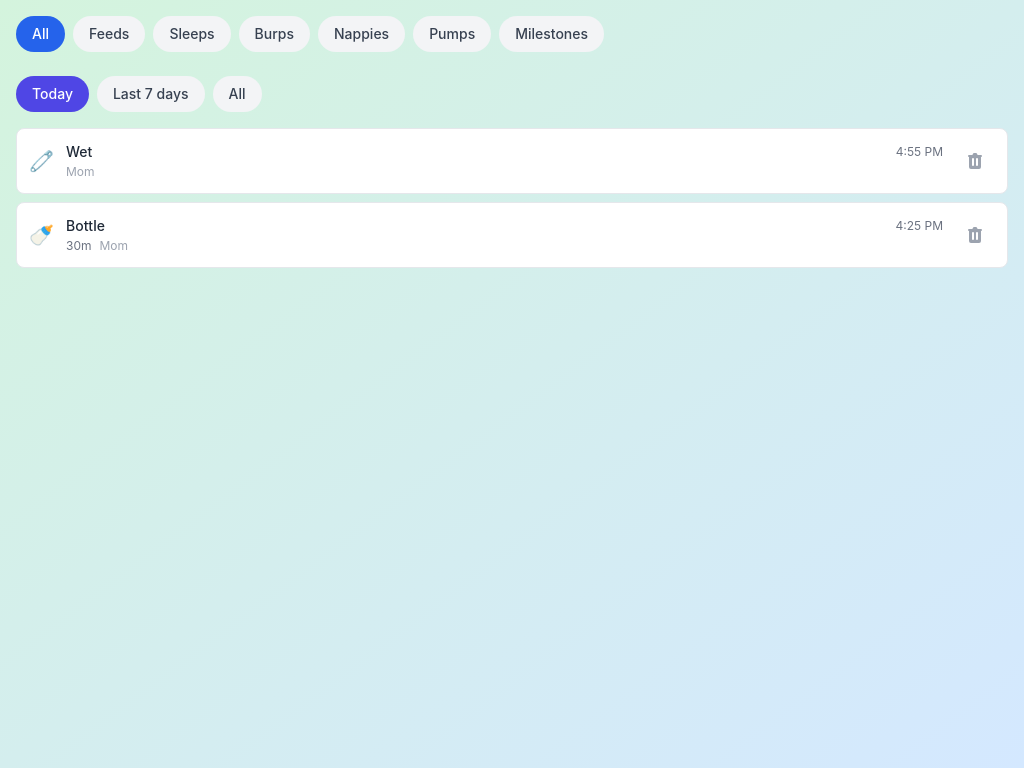
Scenario: History — type filter › shows all events again when All is clicked after filtering
Expected: the text "Bottle" is shown, [66,216,105,236]
Click the button "Feeds". click: (109, 34)
box: [73,16,145,52]
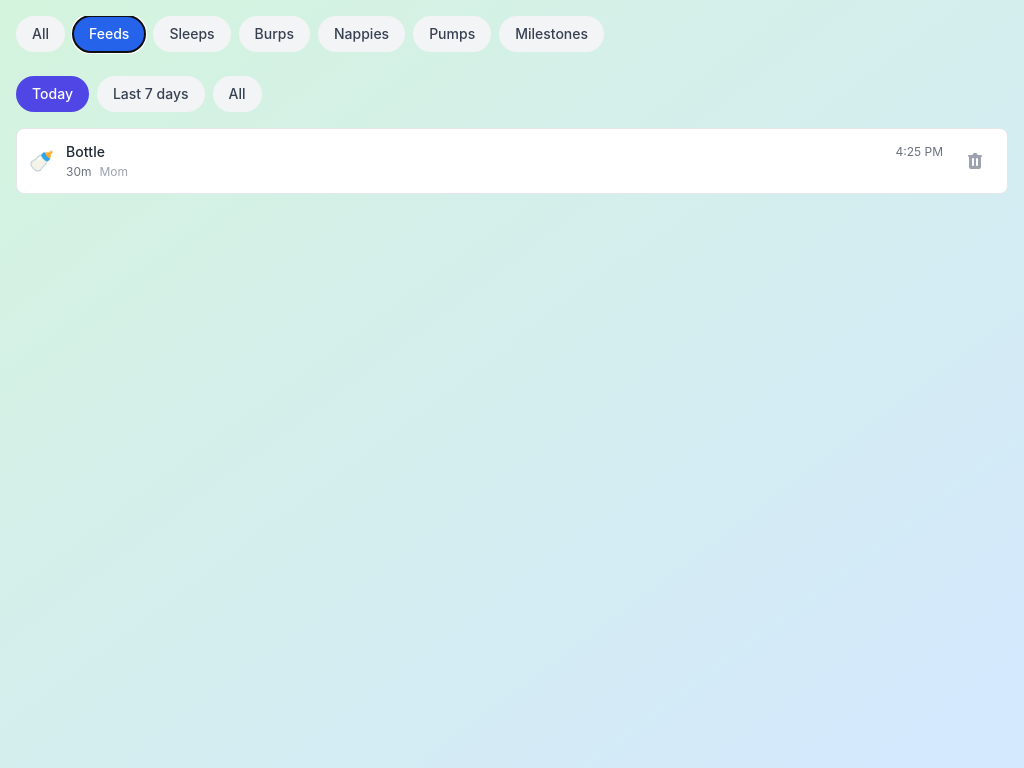
Result: the button "Wet" is gone
Click "All" in the type filters (first one)
Click the 1st button "All". click: (40, 34)
box: [16,16,65,52]
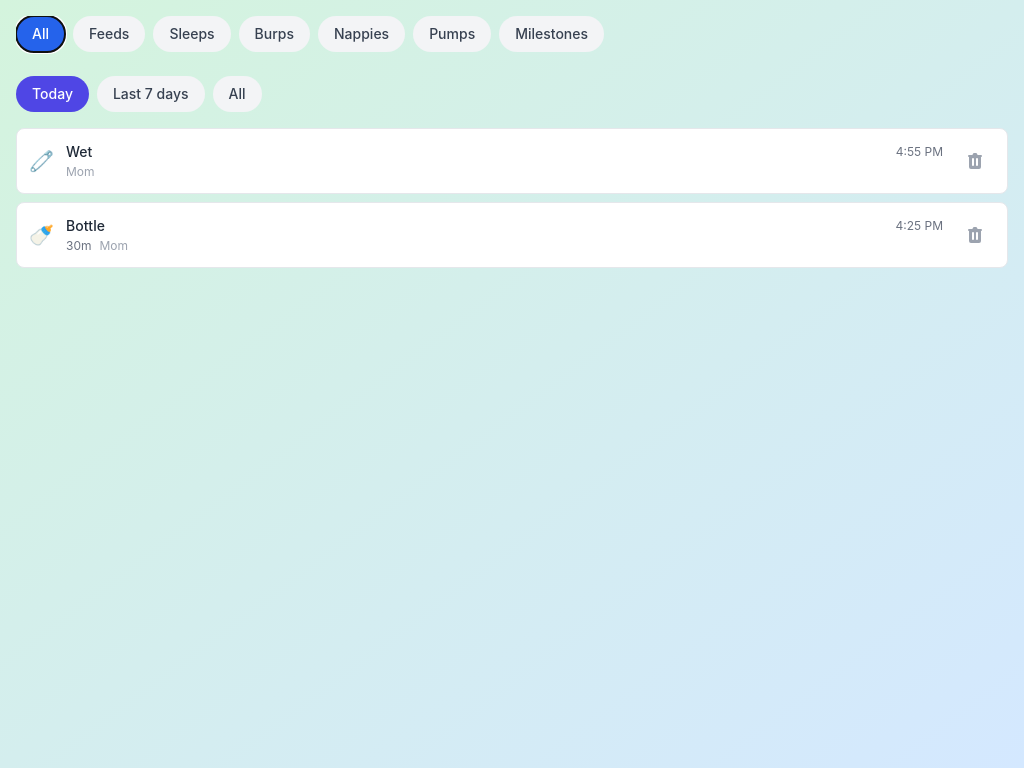
Expected: the text "Bottle" is shown, [66,216,105,236]
Result: the text "Wet" is shown at [66,142,92,162]
